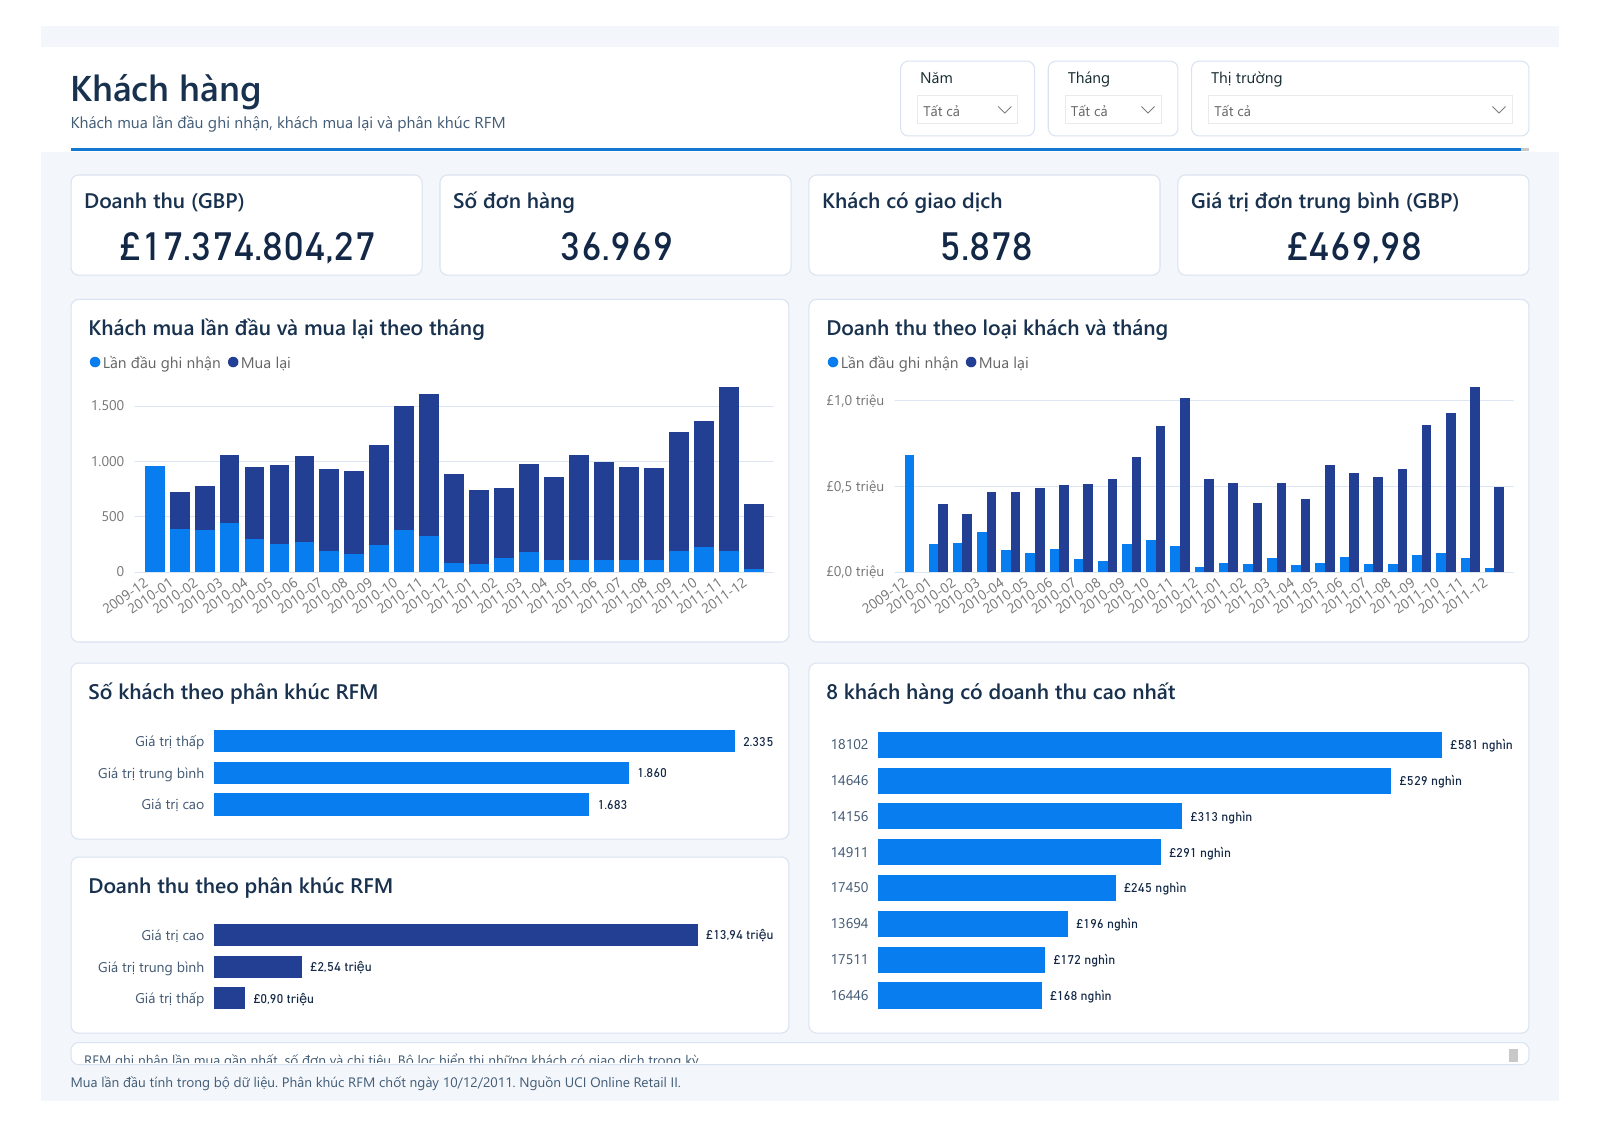

This screenshot's page, from the dashboard's own definition file:
{"tool":"powerbi","page":{"name":"Khách hàng","canvas":[1440,1000],"ordinal":1},"visuals":[{"type":"textbox","box":[0,0,1440,100],"z":0},{"type":"slicer","fields":{"Values":["DimDate.Year"]},"box":[815,13,128,72],"z":19535},{"type":"slicer","fields":{"Values":["DimDate.MonthNo"]},"box":[955,13,124,72],"z":19675},{"type":"slicer","fields":{"Values":["DimCountry.CountryVI"]},"box":[1091,13,321,72],"z":19811},{"type":"textbox","box":[28,96,1384,3],"z":138268},{"type":"card","title":"Doanh thu (GBP)","fields":{"Values":["FactSales.Sales revenue"]},"box":[28,121,334,96],"z":174268},{"type":"card","title":"Số đơn hàng","fields":{"Values":["FactSales.Orders"]},"box":[378,121,334,96],"z":174618},{"type":"card","title":"Khách có giao dịch","fields":{"Values":["FactSales.Active customers"]},"box":[728,121,334,96],"z":174968},{"type":"card","title":"Giá trị đơn trung bình (GBP)","fields":{"Values":["FactSales.Average order value"]},"box":[1078,121,334,96],"z":175318},{"type":"columnChart","title":"Khách mua lần đầu và mua lại theo tháng","fields":{"Category":["DimDate.YearMonth"],"Y":["FactSales.Customers first observed","FactSales.Returning customers"]},"box":[28,239,682,326],"z":344188},{"type":"clusteredColumnChart","title":"Doanh thu theo loại khách và tháng","fields":{"Category":["DimDate.YearMonth"],"Y":["FactSales.First observed revenue","FactSales.Returning revenue"]},"box":[728,239,684,326],"z":344888},{"type":"barChart","title":"Số khách theo phân khúc RFM","fields":{"Category":["DimCustomer.SegmentVI"],"Y":["FactSales.Active customers"]},"box":[28,584,682,168],"z":840988},{"type":"barChart","title":"8 khách hàng có doanh thu cao nhất","fields":{"Category":["DimCustomer.CustomerID"],"Y":["FactSales.Customer ranking revenue"]},"box":[728,584,684,352],"z":841688},{"type":"barChart","title":"Doanh thu theo phân khúc RFM","fields":{"Category":["DimCustomer.SegmentVI"],"Y":["FactSales.Sales revenue"]},"box":[28,768,682,168],"z":1105948},{"type":"textbox","box":[28,944,1384,22],"z":1359388},{"type":"textbox","box":[28,972,1384,22],"z":1399708}]}

Visuals, with their boxes in screenshot pixels (x1, y1, x2, y2), scaled from the page's 1440x1000 canvas onto the 1600x1127 screenshot:
textbox: bbox=(0, 0, 1599, 113)
slicer - DimDate.Year: bbox=(906, 15, 1048, 96)
slicer - DimDate.MonthNo: bbox=(1061, 15, 1199, 96)
slicer - DimCountry.CountryVI: bbox=(1212, 15, 1569, 96)
textbox: bbox=(31, 108, 1569, 112)
"Doanh thu (GBP)" card: bbox=(31, 136, 402, 245)
"Số đơn hàng" card: bbox=(420, 136, 791, 245)
"Khách có giao dịch" card: bbox=(809, 136, 1180, 245)
"Giá trị đơn trung bình (GBP)" card: bbox=(1198, 136, 1569, 245)
"Khách mua lần đầu và mua lại theo tháng" columnChart: bbox=(31, 269, 789, 637)
"Doanh thu theo loại khách và tháng" clusteredColumnChart: bbox=(809, 269, 1569, 637)
"Số khách theo phân khúc RFM" barChart: bbox=(31, 658, 789, 848)
"8 khách hàng có doanh thu cao nhất" barChart: bbox=(809, 658, 1569, 1055)
"Doanh thu theo phân khúc RFM" barChart: bbox=(31, 866, 789, 1055)
textbox: bbox=(31, 1064, 1569, 1089)
textbox: bbox=(31, 1095, 1569, 1120)
